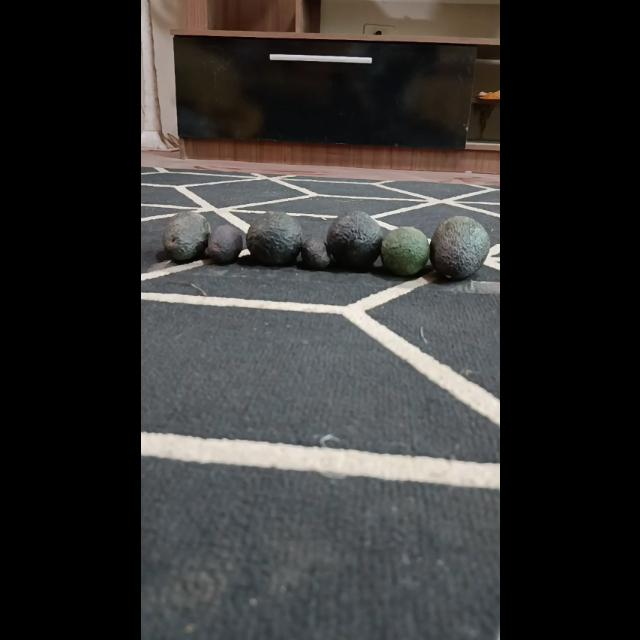Primera: (429, 216, 491, 280), (324, 210, 384, 270), (244, 211, 302, 265)
Segunda: (380, 226, 430, 276), (161, 212, 209, 262)
Tercera: (204, 223, 244, 265), (299, 237, 331, 270)
